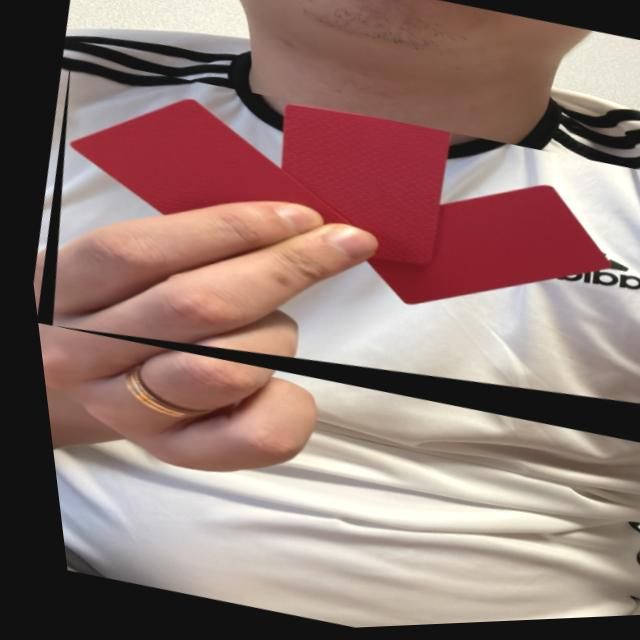hwatoo: (6, 37, 640, 469)
